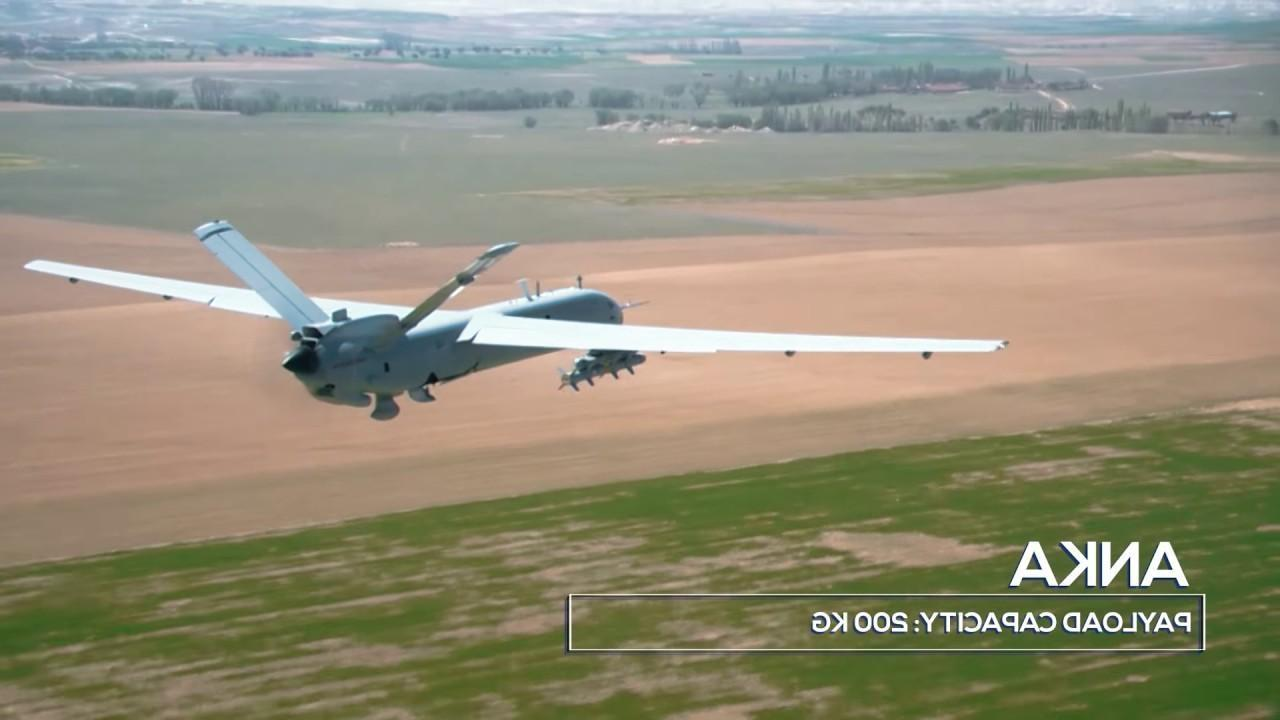Airplane: (14, 164, 1029, 449)
